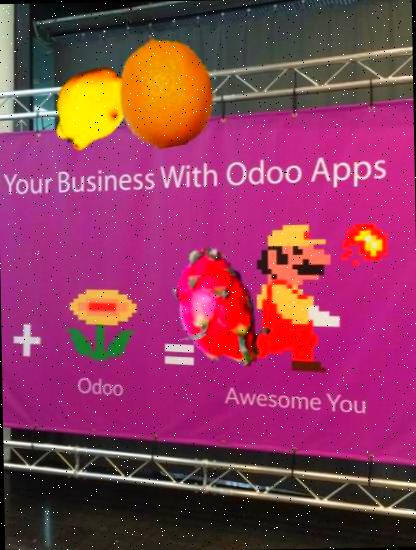Lemon: (107, 31, 223, 148)
Pitahaya: (152, 250, 275, 373)
Quince: (44, 61, 136, 153)
